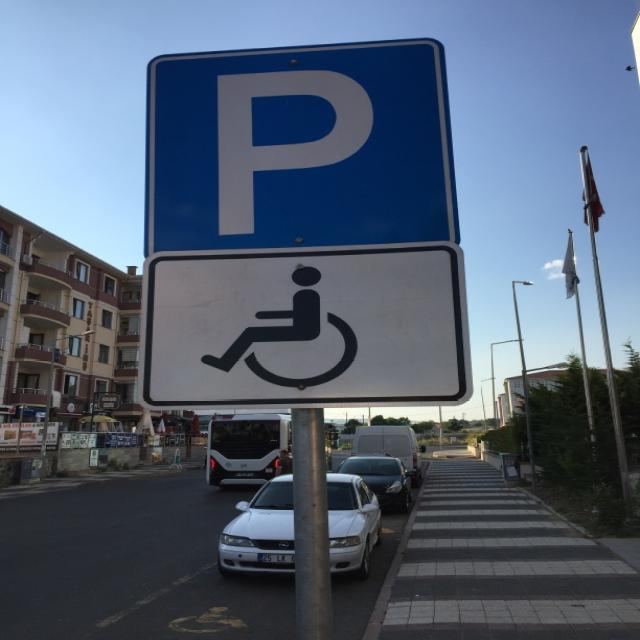park: (136, 37, 462, 243)
